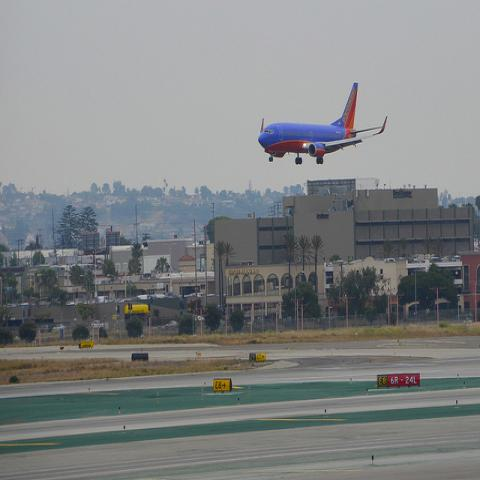car: (52, 323, 68, 333), (164, 321, 178, 328)
